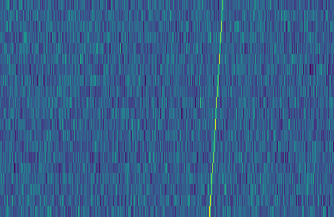signal: (205, 0, 228, 217)
